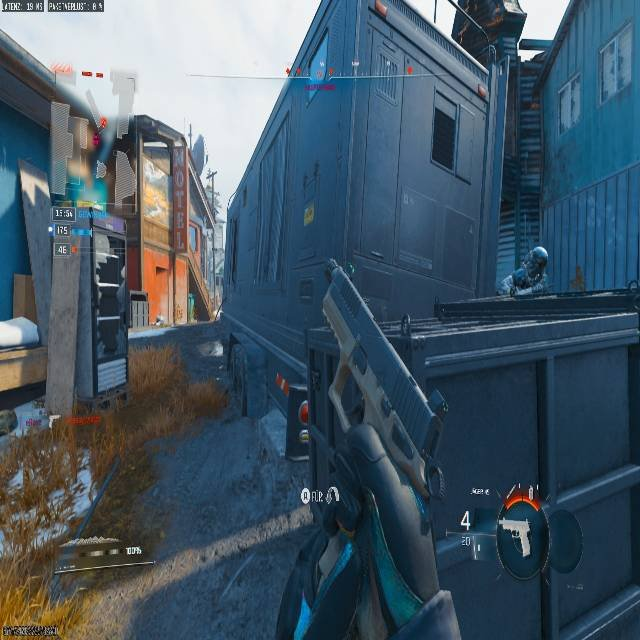head: (523, 247, 548, 278)
player: (496, 246, 549, 298), (154, 317, 164, 326)
